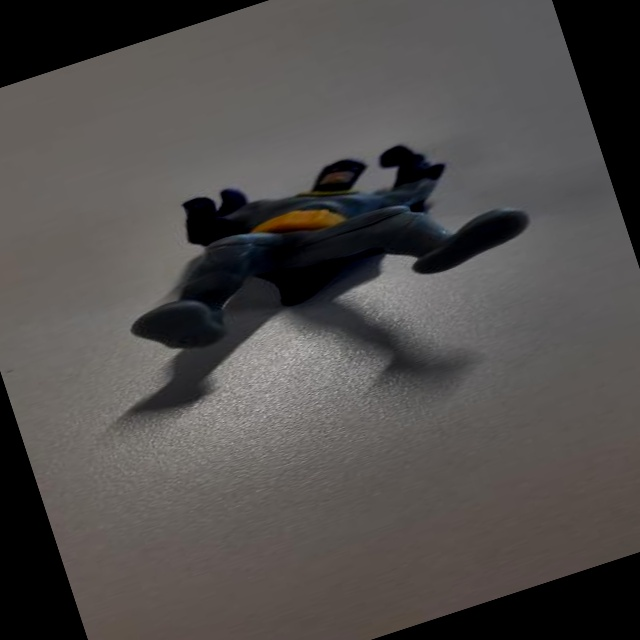Batman: (93, 97, 534, 370)
